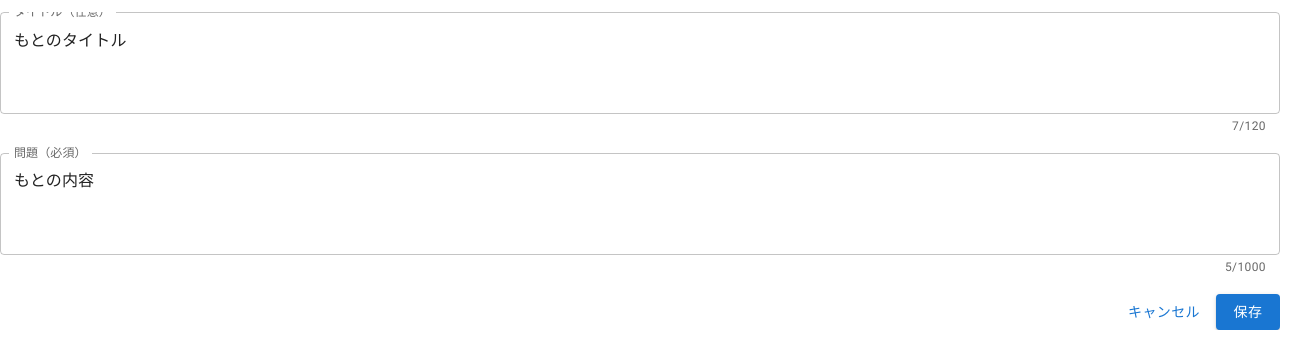
Test: IssueEditor 異常系 › content を空にして保存すると必須エラーが出て update は呼ばれない
Note: content を空にする
Clear the text box labelled "問題（必須）" at (640, 204), box [14, 169, 1266, 238]
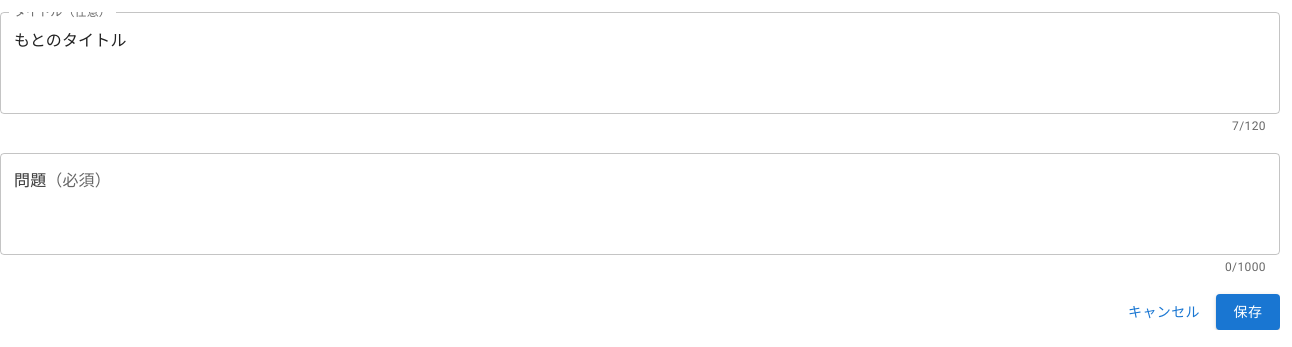
Click the button "保存" at (1248, 312), box [1216, 294, 1280, 330]
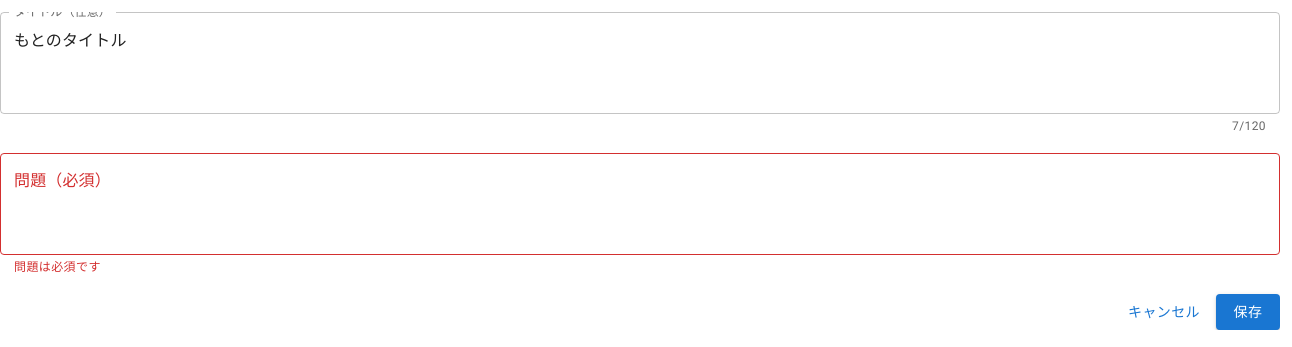
Now the text "問題は必須です" is shown, box [14, 260, 101, 274]
